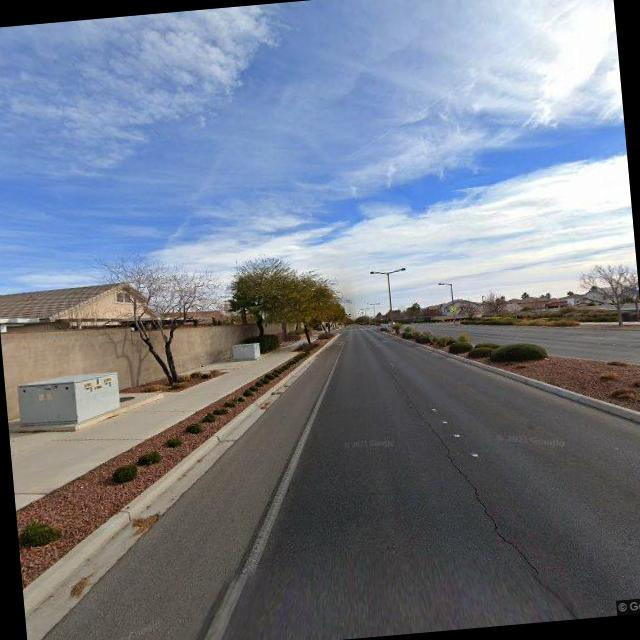pothole: (409, 392, 544, 586)
